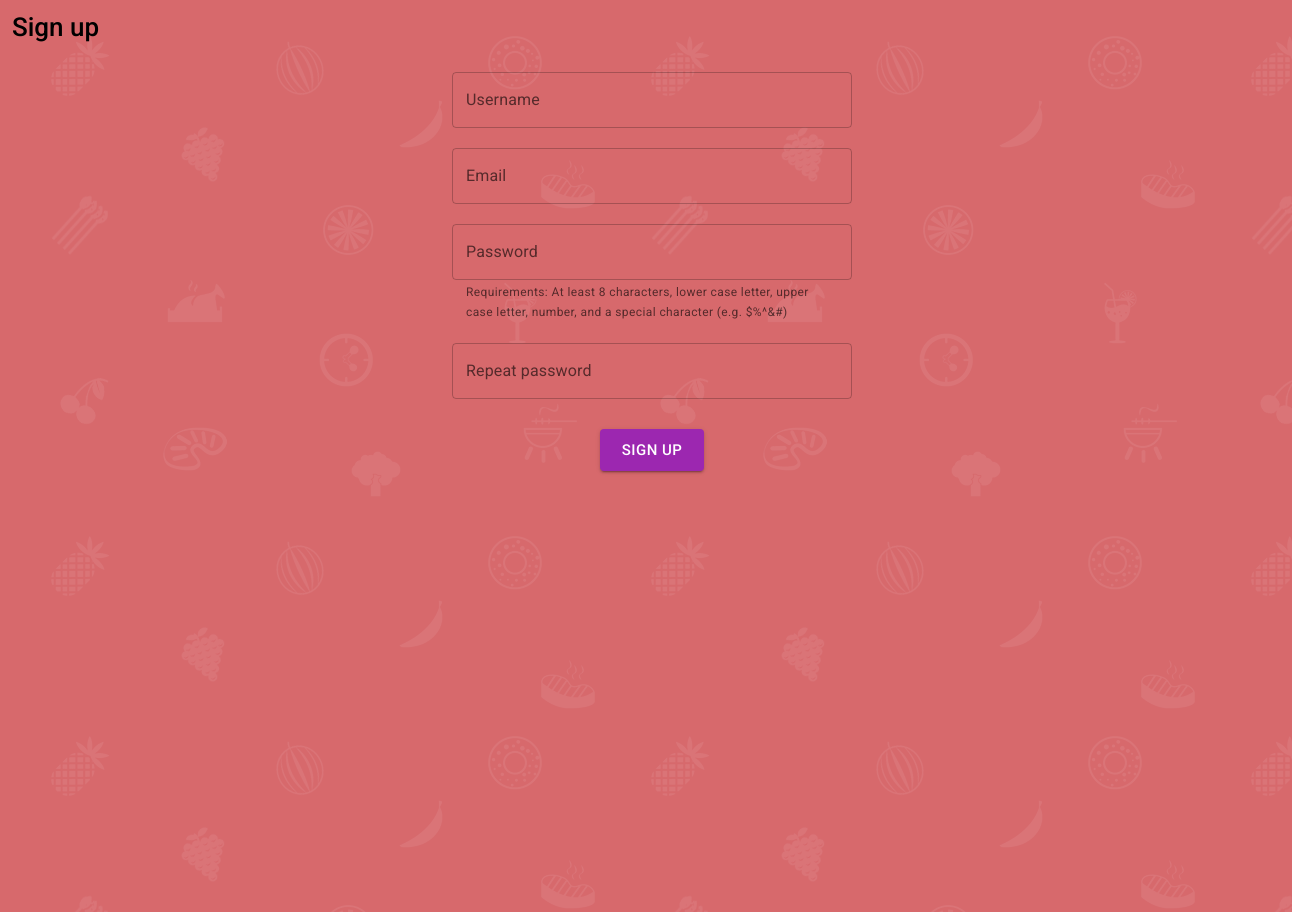
I should not see an error with a valid username
The image size is (1292, 912).
In the field labelled "Username": {"x": 652, "y": 100} [452, 72, 852, 128], type "username_test12345"
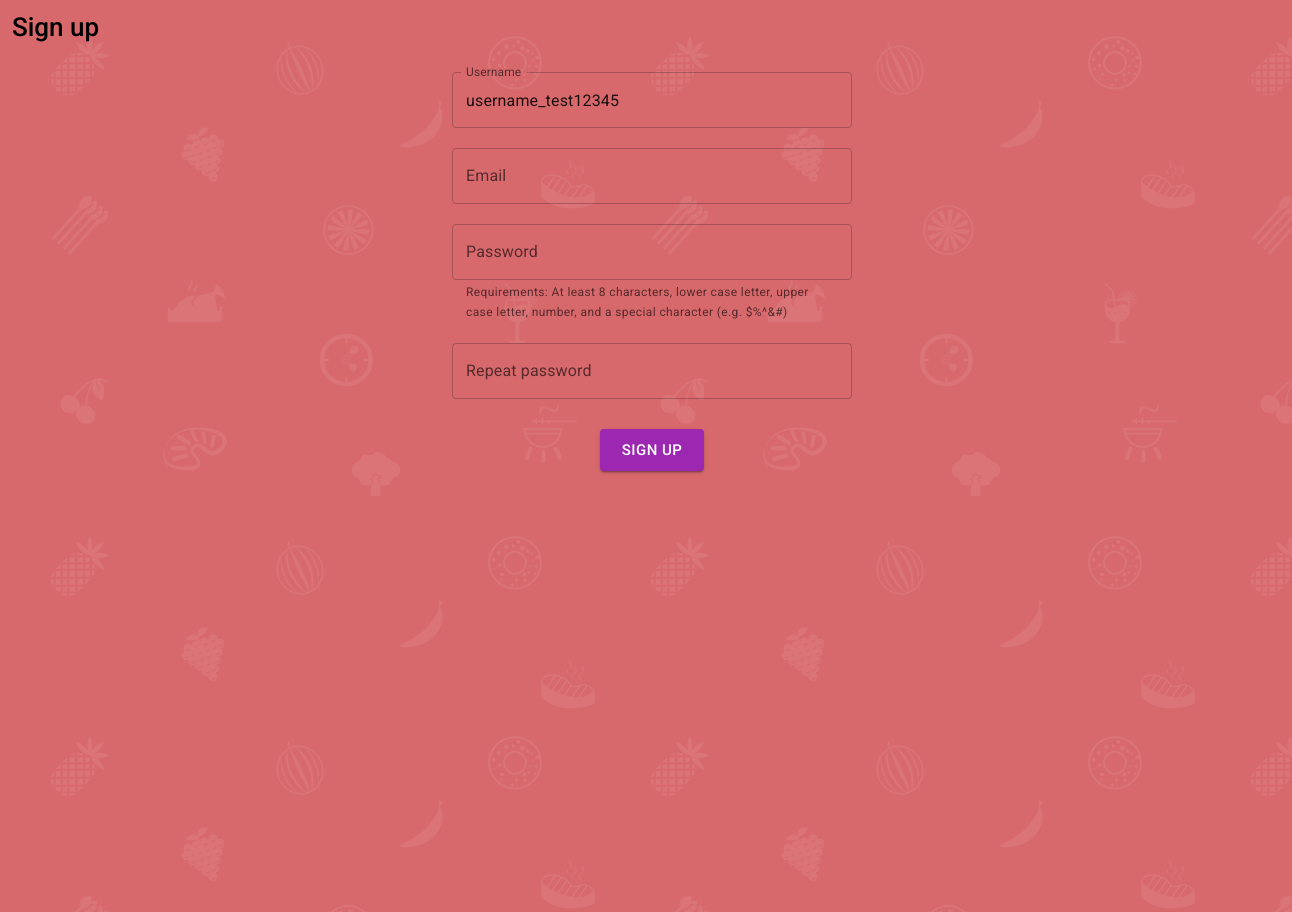
Click the button "Sign up": {"x": 652, "y": 450} [600, 429, 704, 471]
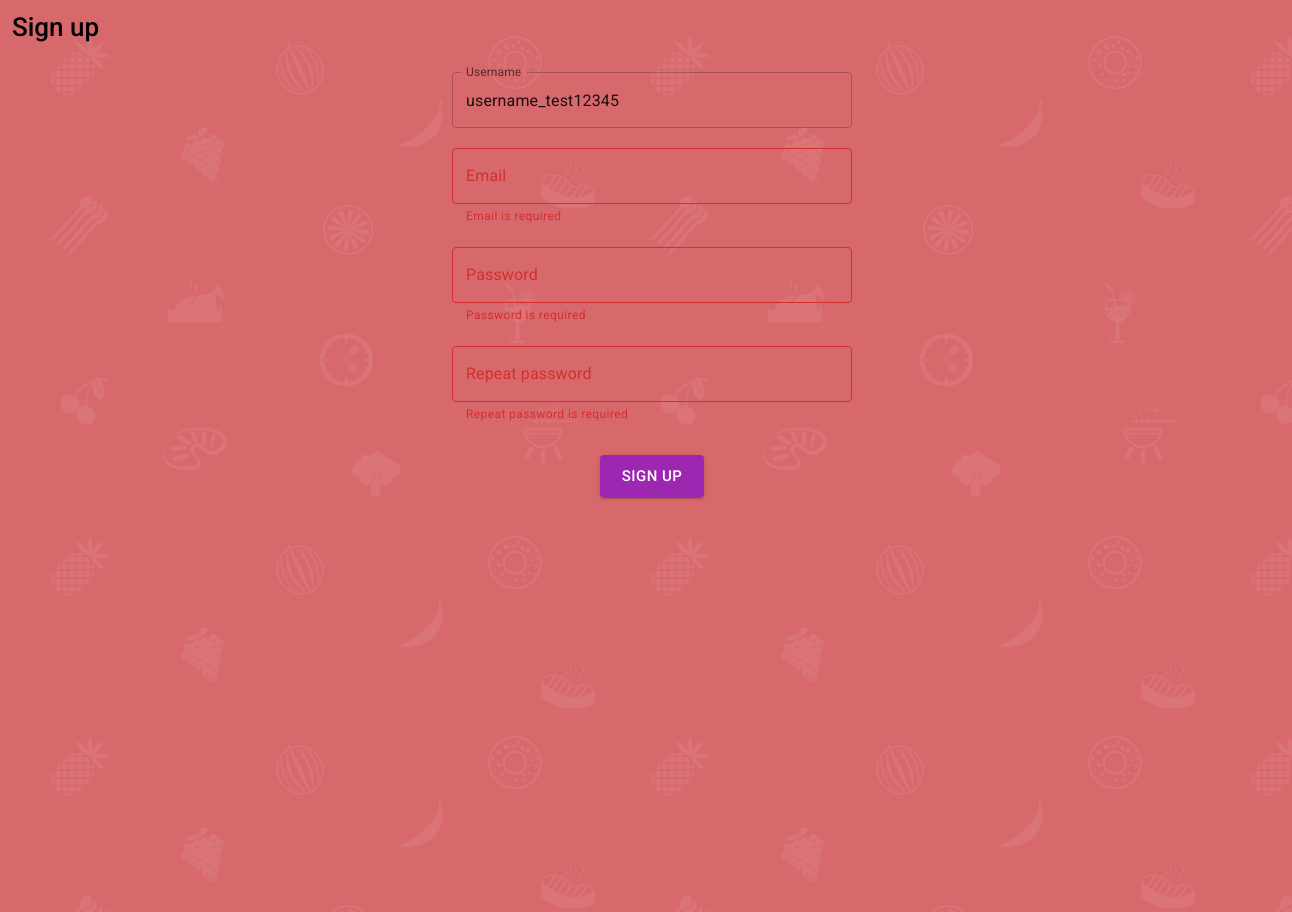
Expected: the text "Password is required" is shown, [466, 308, 586, 322]
